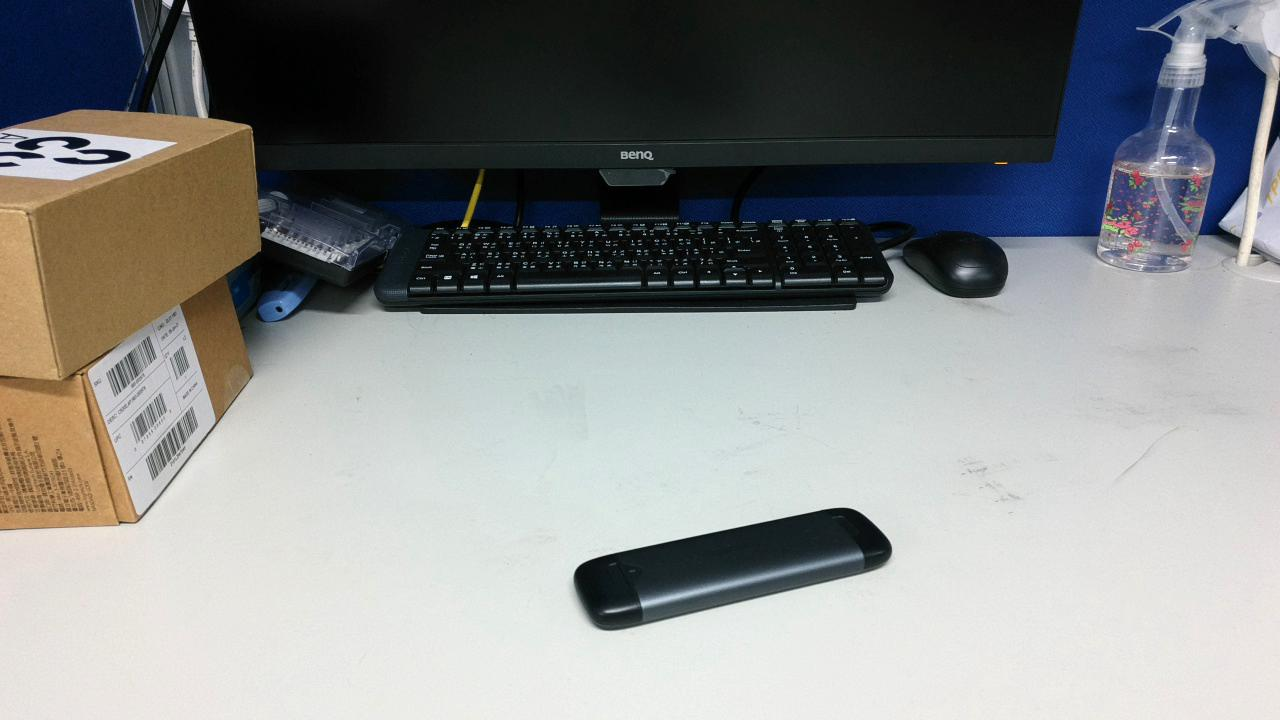blade: (536, 425, 622, 518)
grasp: (468, 365, 577, 435)
